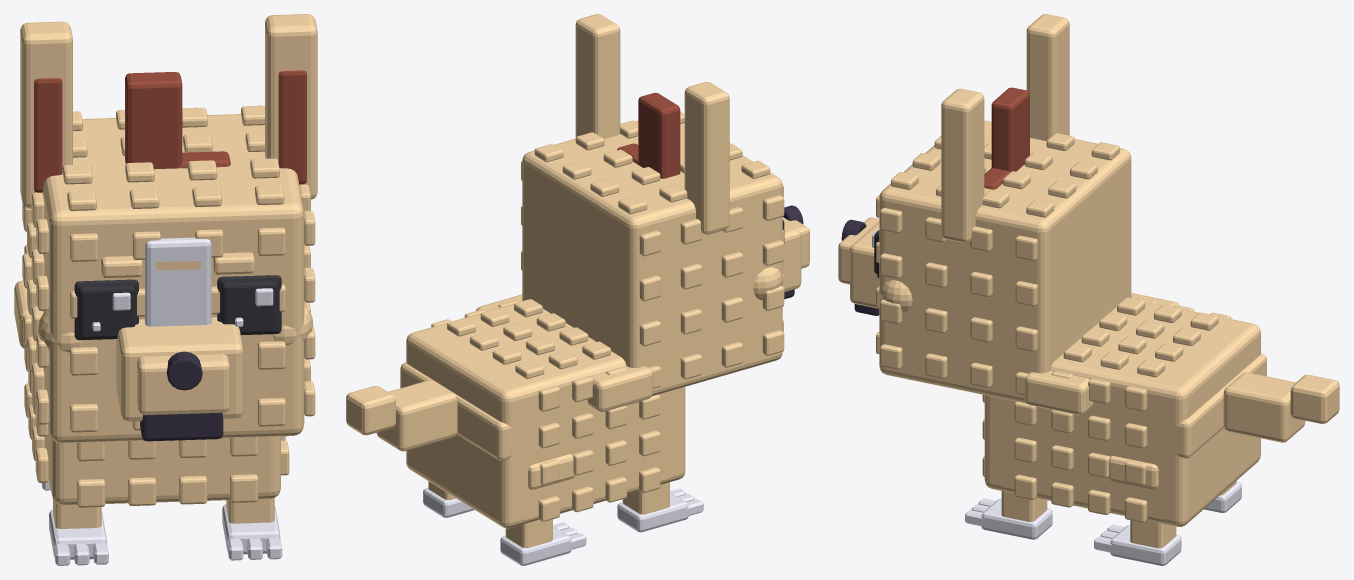
File: TurboHare.obj
3 renders of one model, left to right at view 1: azimuth 30°, elevation 25°; view 2: azimuth 150°, elevation 25°; view 3: azimuth 270°, elevation 25°, orthographic. The views are drawn at different scales.
Visible parts, largest first — view 1: TurboHare; view 2: TurboHare; view 3: TurboHare.
Boxes of the visible parts, <box> form: TurboHare: <box>14,14,317,565</box>; TurboHare: <box>346,14,809,565</box>; TurboHare: <box>838,14,1339,565</box>.
Size of the model in its own units: 1.69 by 2.48 by 2.6.
